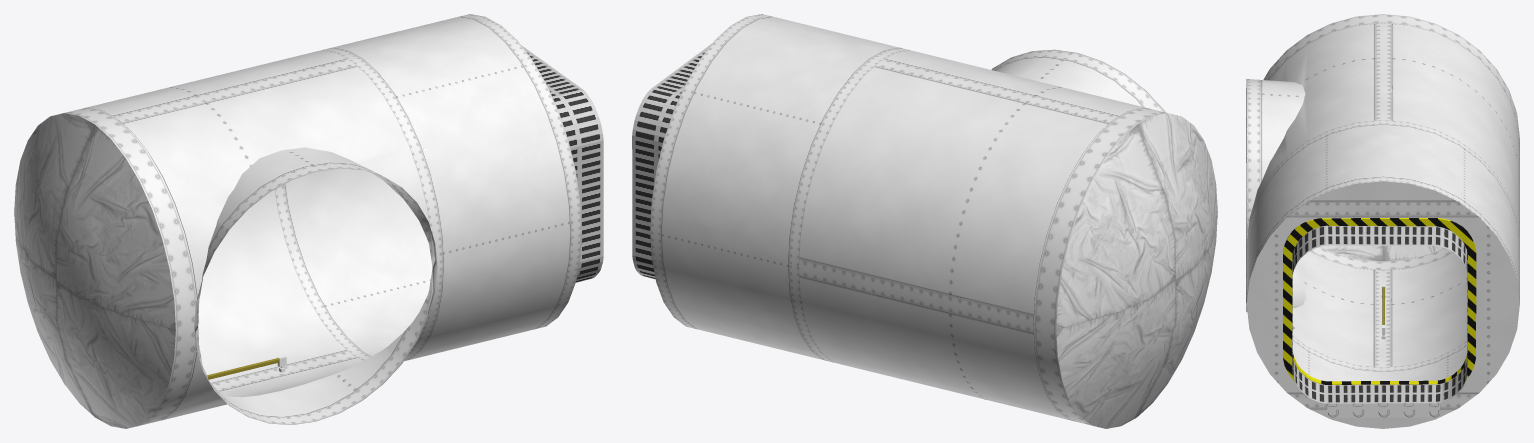
The model's file is ISS_AL_TRANSiT_INT.FBX.
3 views of the same model, side by side, from view 1: azimuth 30°, elevation 25°; view 2: azimuth 150°, elevation 25°; view 3: azimuth 270°, elevation 25° (orthographic). The views are drawn at different scales.
Visible parts, largest first — view 1: main-struct_int; view 2: main-struct_int; view 3: main-struct_int.
Part boxes in pixels (x1,y1,x2,y2): main-struct_int: [14, 14, 603, 428]; main-struct_int: [632, 14, 1217, 428]; main-struct_int: [1246, 14, 1519, 428].
Size of the model in its own units: 2.8 by 1.59 by 1.59.
14 materials, 8 textured.
